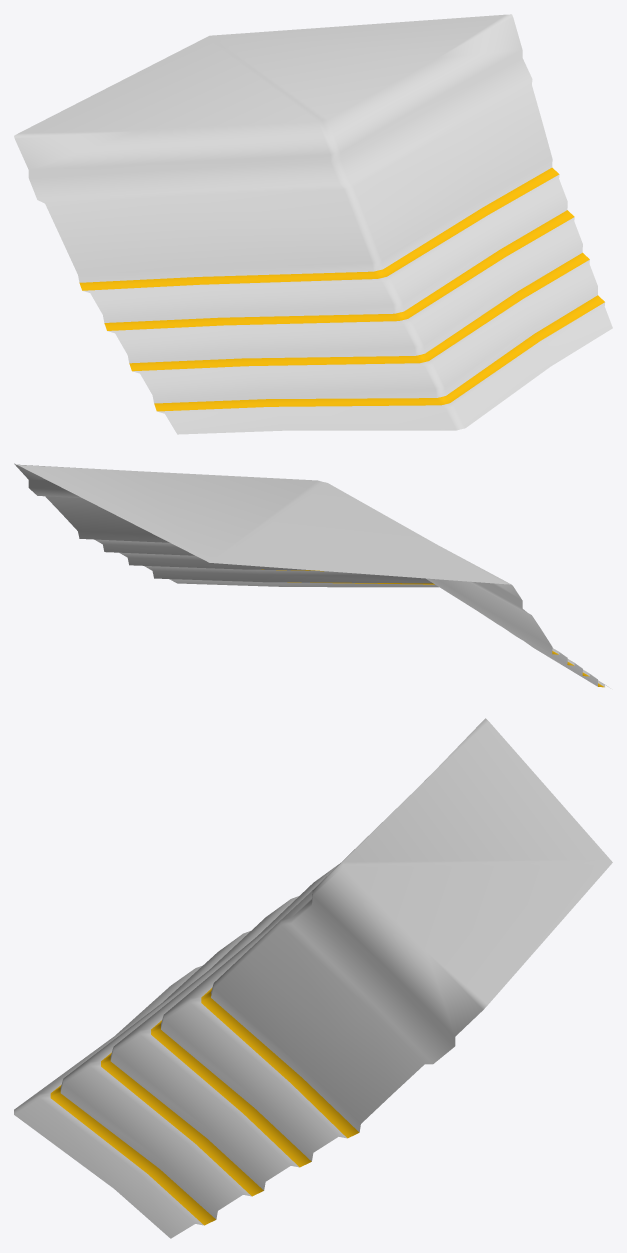
The model's file is frontPiece.fbx.
The picture shows the model from 3 angles, top to bottom: view 1: azimuth 30°, elevation 25°; view 2: azimuth 150°, elevation 25°; view 3: azimuth 270°, elevation 25°; orthographic projection. The views are drawn at different scales.
Visible parts, largest first — view 1: polySurface15; view 2: polySurface15; view 3: polySurface15.
Boxes of the visible parts, bbox=[...] form: polySurface15: bbox=[14, 14, 612, 434]; polySurface15: bbox=[14, 463, 610, 688]; polySurface15: bbox=[14, 718, 612, 1238].
Size of the model in its own units: 413 by 166 by 361.
2 materials, 1 textured.
